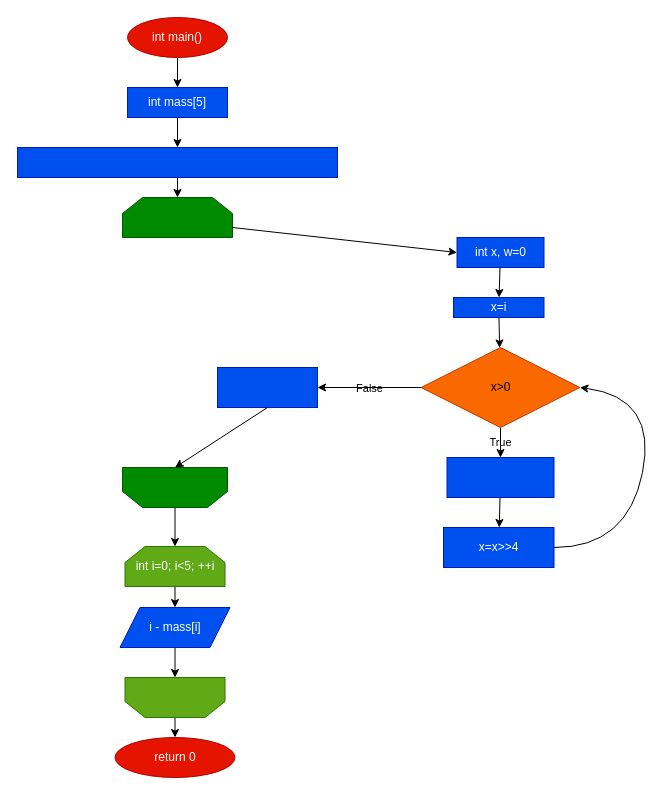
This 663x795 diagram has some shape labels left out. Here are the shapes that lost their labels. From the top down, the centre of each, then its label:
At (177,162): "arr[16] = { 0, 1, 1, 2, 1, 2, 2, 3, 1, 2, 2, 3, 2, 3, 3, 4 };".
At (177,217): "int i=0; i<16; ++i".
At (267,387): "mass[w]++".
At (500,477): "w=w+arr[x&15]".
